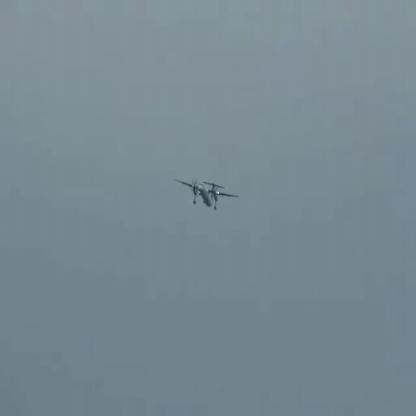CIV_Plane: (172, 177, 238, 211)
